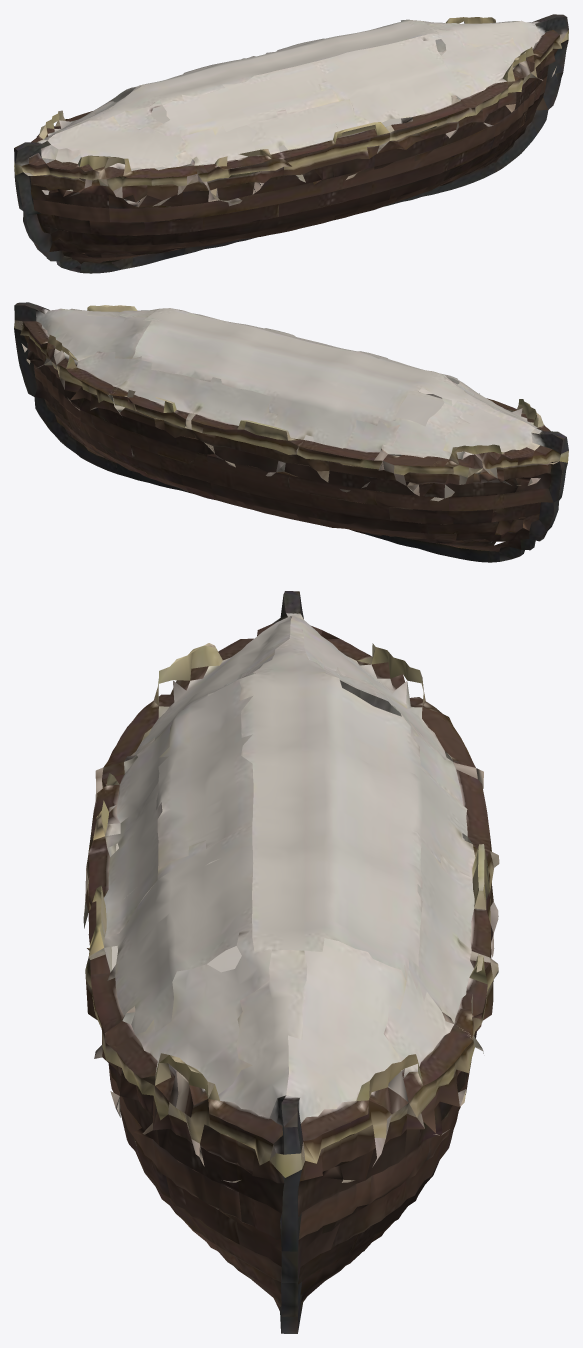
Rendered from canot.glb.
3 renders of one model, top to bottom at view 1: azimuth 30°, elevation 25°; view 2: azimuth 150°, elevation 25°; view 3: azimuth 270°, elevation 25°, orthographic. The views are drawn at different scales.
Visible parts, largest first — view 1: canot; view 2: canot; view 3: canot.
Boxes of the visible parts, left/top/right/bottom form: canot: left=14, top=14, right=568, bottom=273; canot: left=14, top=302, right=568, bottom=562; canot: left=83, top=591, right=499, bottom=1333.
Bounding box in the file's own units: 6.6 × 1.95 × 2.15.
Materials: 1 (1 with a texture image).
